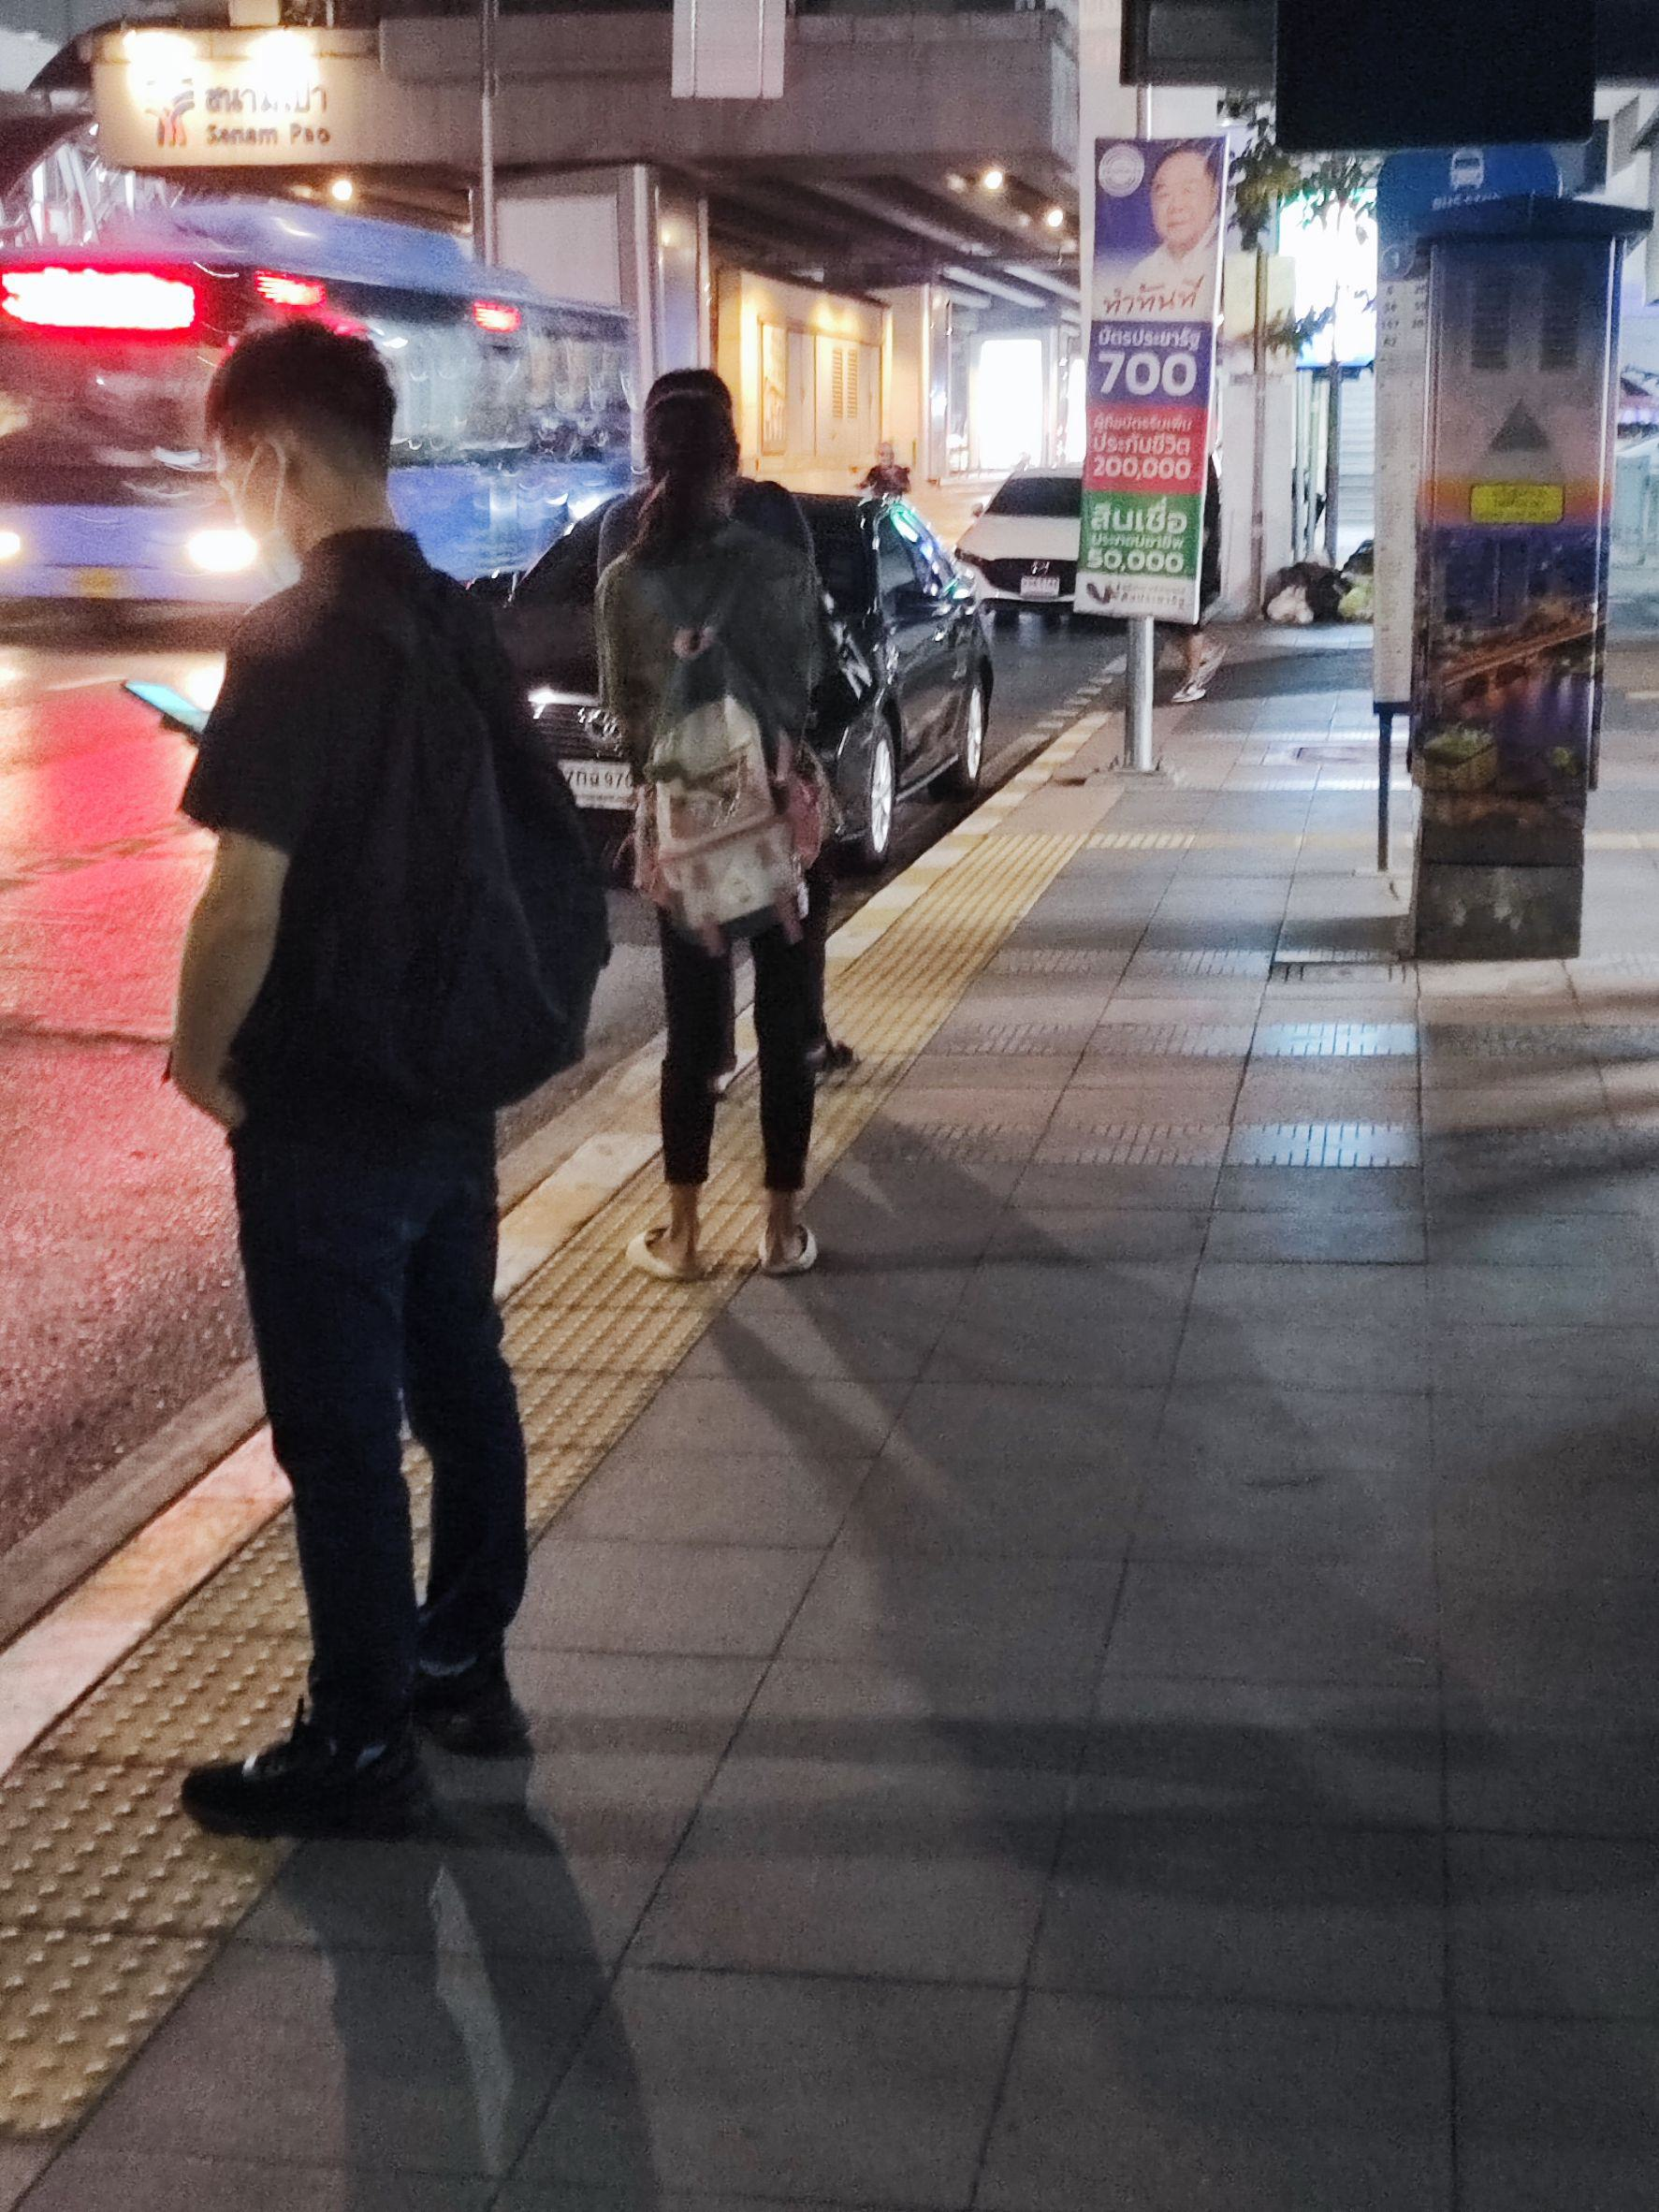Banner: (1082, 129, 1222, 634)
